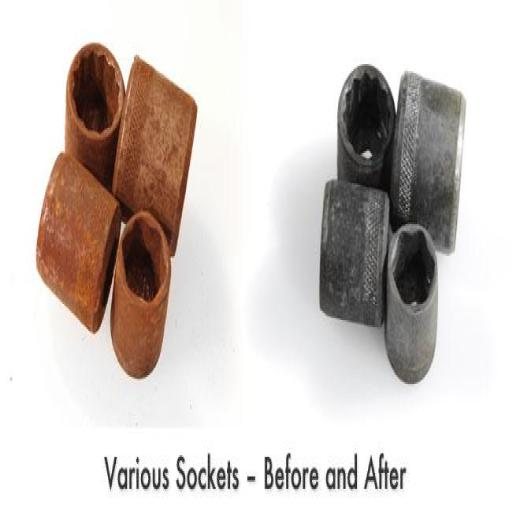segmentation: (19, 40, 204, 378)
